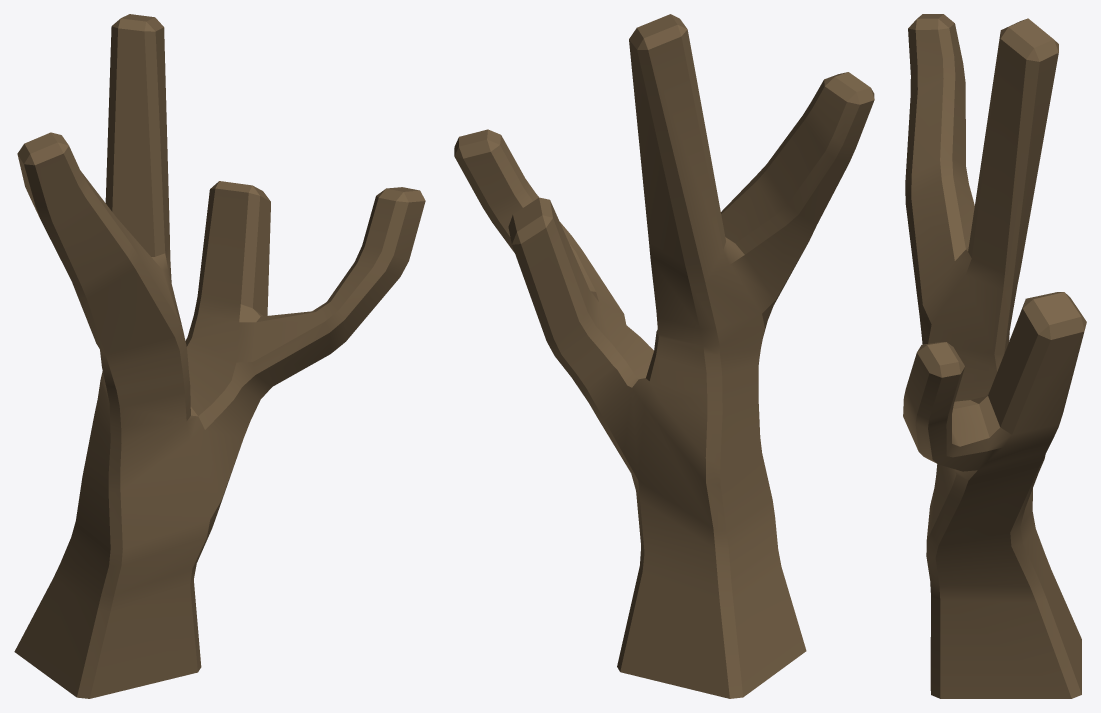
File: quaternius-cube-world-dead-tree-2.glb
3 renders of one model, left to right at view 1: azimuth 30°, elevation 25°; view 2: azimuth 150°, elevation 25°; view 3: azimuth 270°, elevation 25°, orthographic. The views are drawn at different scales.
Parts seen in each view (by area): view 1: DeadTree_2; view 2: DeadTree_2; view 3: DeadTree_2.
Boxes of the visible parts, x1=… form: DeadTree_2: x1=14, y1=14, x2=425, y2=698; DeadTree_2: x1=454, y1=14, x2=874, y2=698; DeadTree_2: x1=903, y1=14, x2=1086, y2=698.
Bounding box in the file's own units: 2.97 × 4.38 × 1.11.
1 material, 1 textured.
